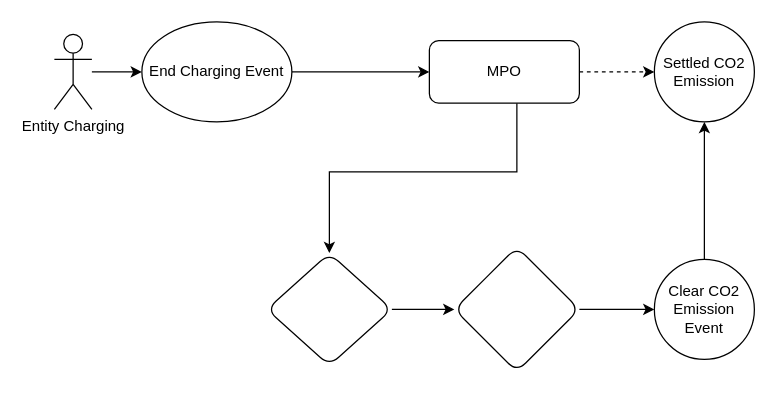
The diagram is 776 pixels wide and 394 high, and some of its shapes have lost their labels. Each missing label, with the centre of its shape:
"Retrieve Emission Factor" goes at (516,309).
"Settle Consumption" goes at (329,309).
